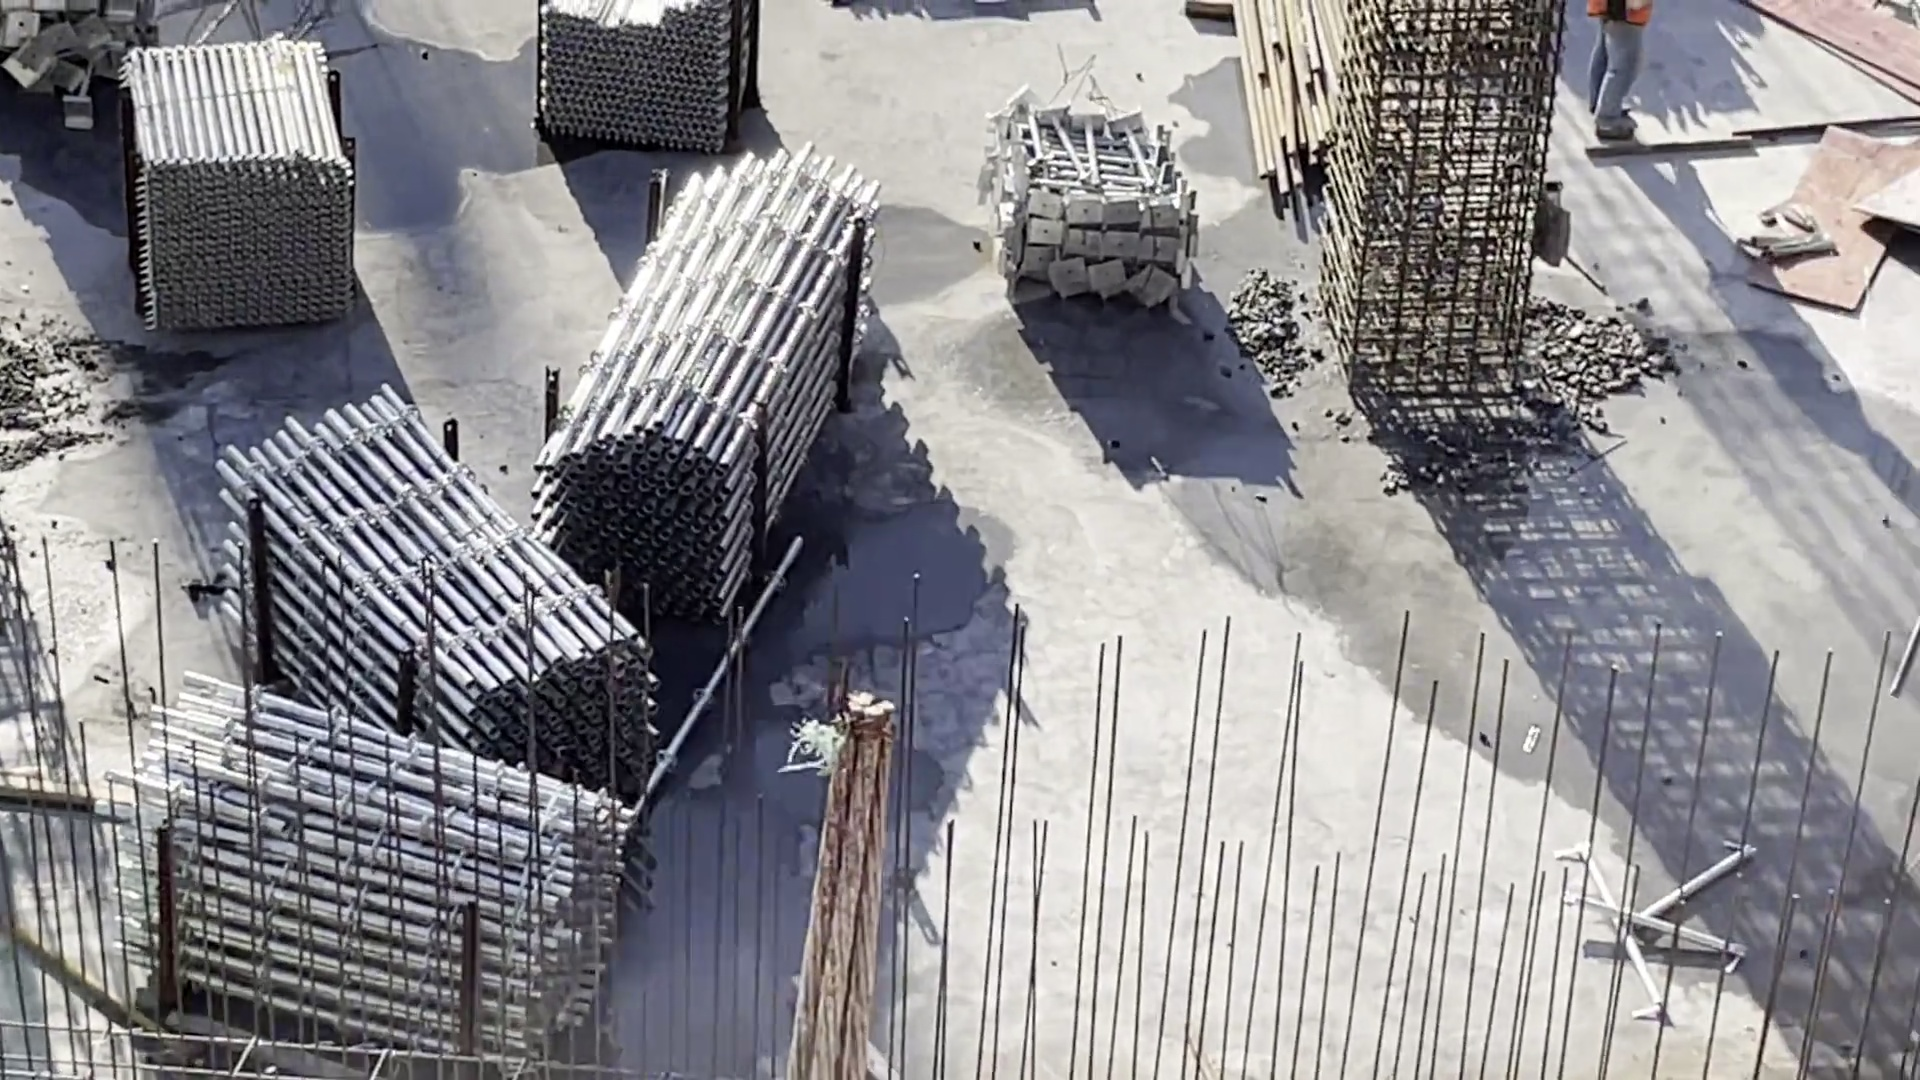person: (1562, 1, 1665, 157)
scaffold: (180, 405, 659, 856), (134, 699, 623, 1066), (588, 155, 880, 650), (126, 46, 368, 338), (982, 108, 1196, 324), (532, 1, 757, 164)
vest: (1590, 1, 1657, 39)
